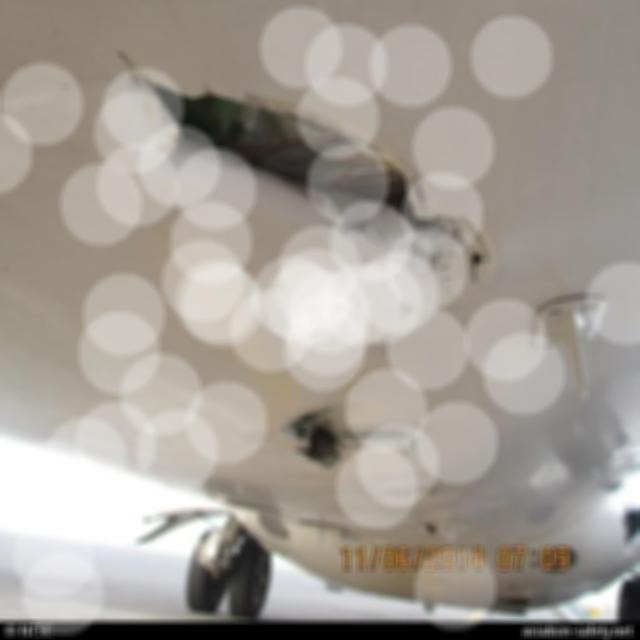crack: (118, 45, 497, 285)
